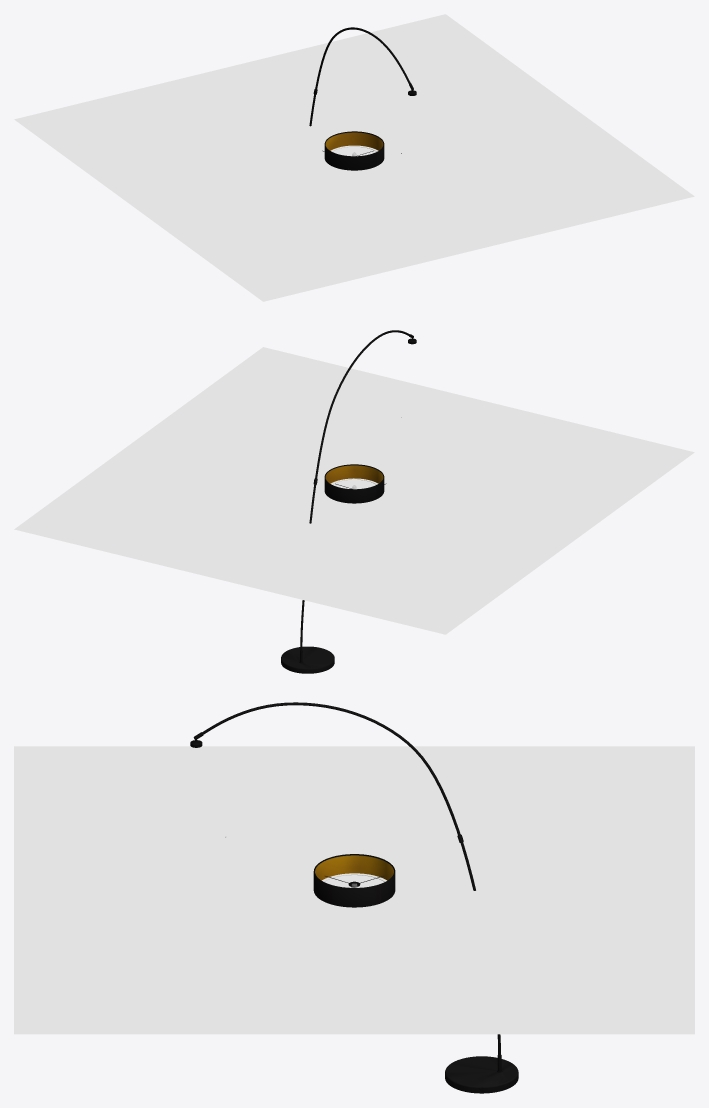
Rendered from floor lamp_1_processed.glb.
The picture shows the model from 3 angles, top to bottom: view 1: azimuth 30°, elevation 25°; view 2: azimuth 150°, elevation 25°; view 3: azimuth 270°, elevation 25°; orthographic projection. The views are drawn at different scales.
Visible parts, largest first — view 1: FLOOR, LAMP_SHADE, COPPER, STEEL_MATT_GREY; view 2: FLOOR, STEEL_MATT_GREY, LAMP_SHADE, COPPER; view 3: FLOOR, STEEL_MATT_GREY, LAMP_SHADE, COPPER.
Boxes of the visible parts, <box> form: FLOOR: <box>14,14,694,301</box>; LAMP_SHADE: <box>324,131,384,170</box>; COPPER: <box>325,132,383,150</box>; STEEL_MATT_GREY: <box>309,27,416,126</box>; FLOOR: <box>14,347,694,634</box>; STEEL_MATT_GREY: <box>281,330,416,673</box>; LAMP_SHADE: <box>324,464,384,503</box>; COPPER: <box>325,465,383,483</box>; FLOOR: <box>14,746,694,1034</box>; STEEL_MATT_GREY: <box>190,702,518,1093</box>; LAMP_SHADE: <box>313,854,395,907</box>; COPPER: <box>315,855,393,880</box>.
Size of the model in its own units: 1.09e+07 by 6660208 by 1.09e+07.
Materials: 8 (6 with a texture image).
